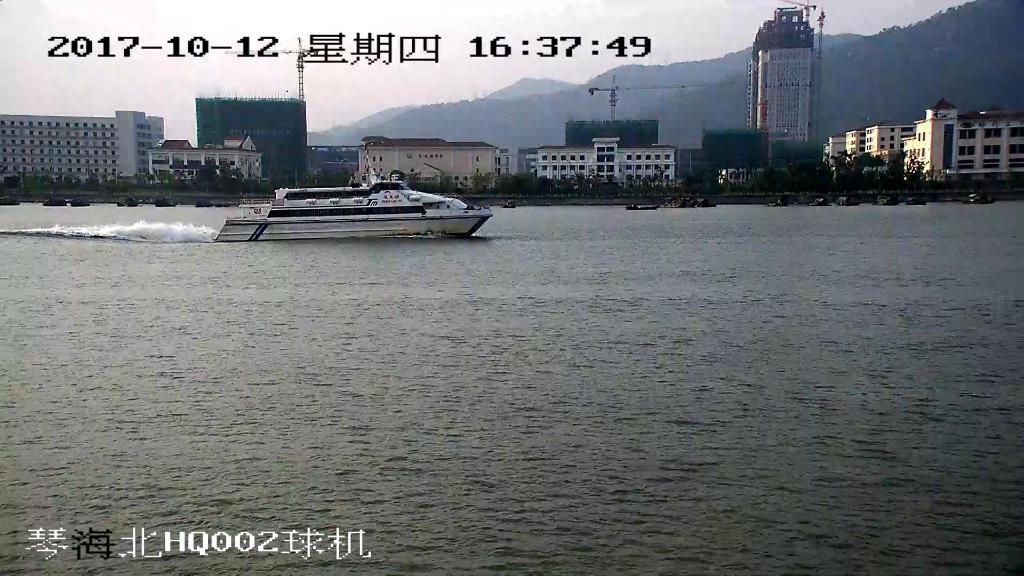PassengerShip: (206, 146, 498, 248)
